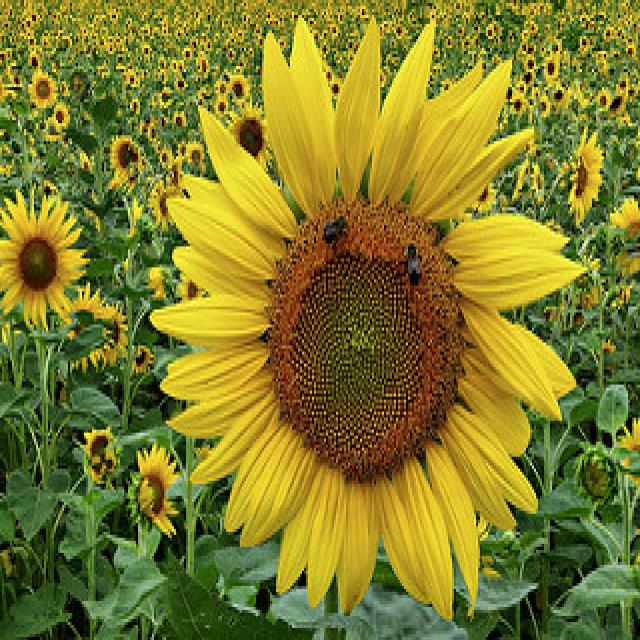sunflower: (171, 30, 572, 604), (1, 196, 87, 328)
